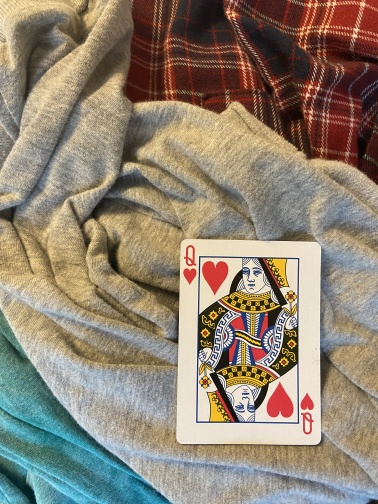queen: (174, 238, 323, 447)
